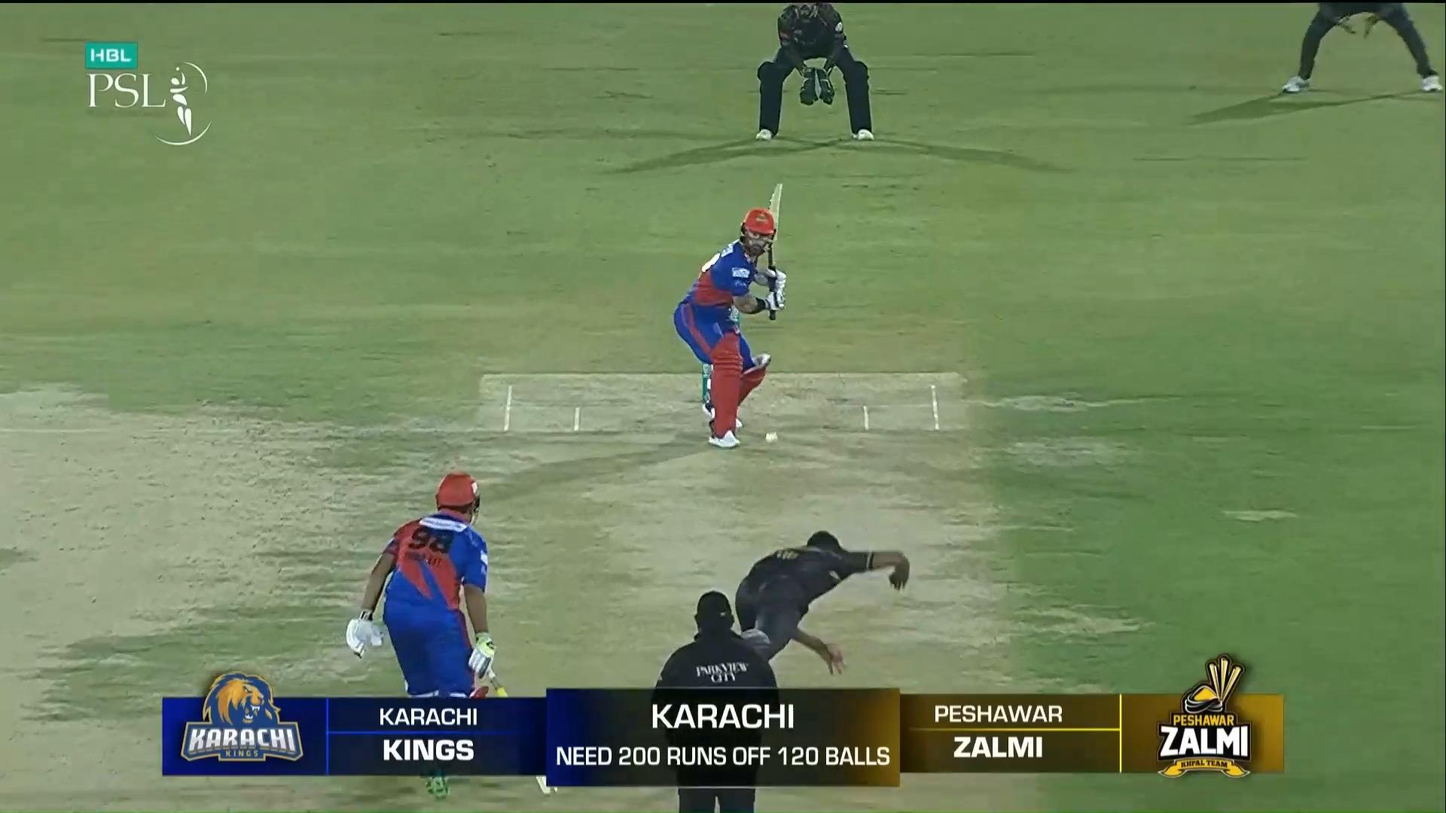batsman: (676, 185, 784, 447)
